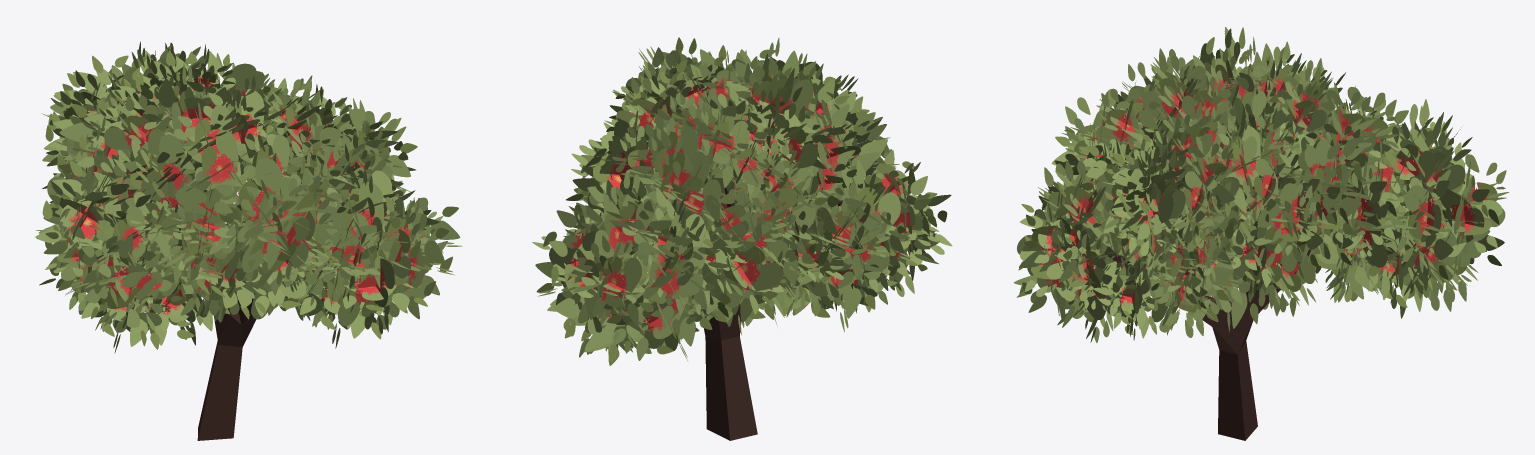
File: floweringGum.glb
3 renders of one model, left to right at view 1: azimuth 30°, elevation 25°; view 2: azimuth 150°, elevation 25°; view 3: azimuth 270°, elevation 25°, orthographic.
Parts seen in each view (by area): view 1: FloweringGum, FloweringGum.log; view 2: FloweringGum, FloweringGum.log; view 3: FloweringGum, FloweringGum.log.
Boxes of the visible parts, <box> form: FloweringGum: <box>35,41,462,353</box>; FloweringGum.log: <box>106,145,287,440</box>; FloweringGum: <box>532,37,952,365</box>; FloweringGum.log: <box>683,174,842,440</box>; FloweringGum: <box>1013,27,1509,342</box>; FloweringGum.log: <box>1104,199,1321,440</box>.
Bounding box in the file's own units: 11.83 × 11.81 × 13.81.
Materials: 2 (1 with a texture image).
